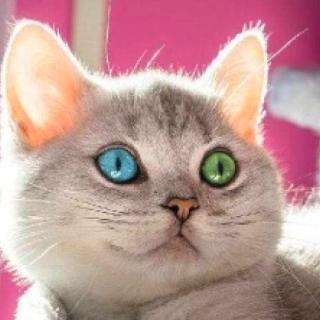cat: (0, 16, 283, 317)
nose: (154, 178, 209, 230)
